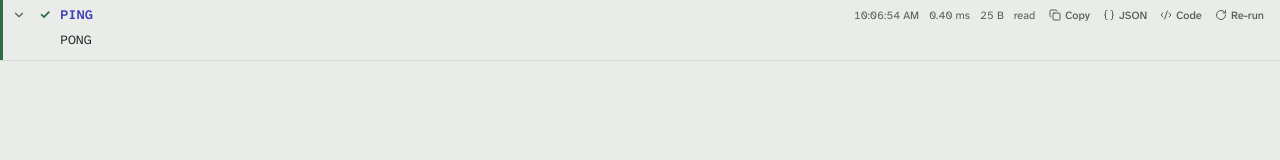
Test: console results render Redis data as text › collapses to a one-line summary and keeps an accessible name per action
expect the button with aria-label "Copy result" is shown: met, box [1043, 4, 1096, 26]
expect the button with aria-label "Copy JSON" is shown: met, box [1097, 4, 1153, 26]
Click the button named "Collapse" at (19, 15), box [8, 4, 30, 26]
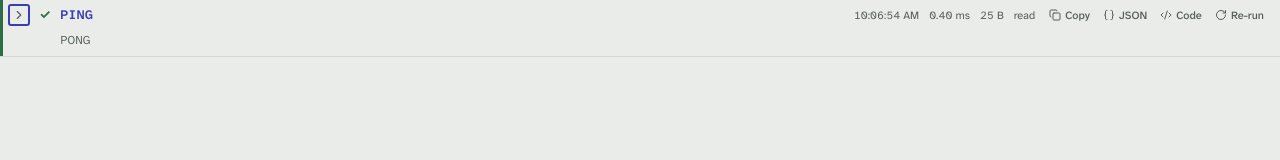
expect the text with class "result-preview" reads "PONG": met, box [60, 32, 90, 48]
expect the button named "Expand" is collapsed: met, box [8, 4, 30, 26]
